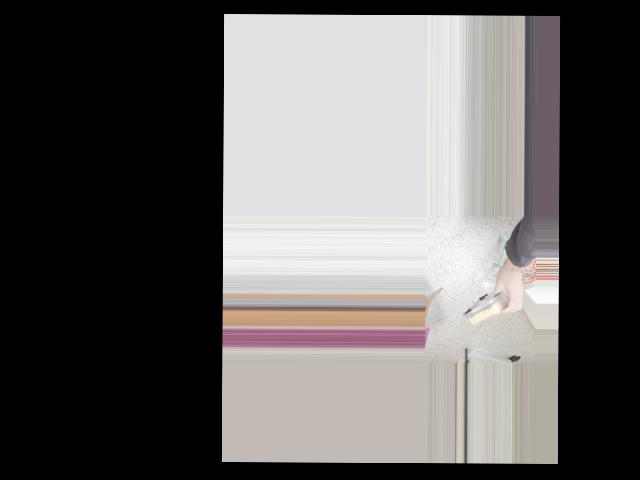cheese: (460, 278, 531, 335)
